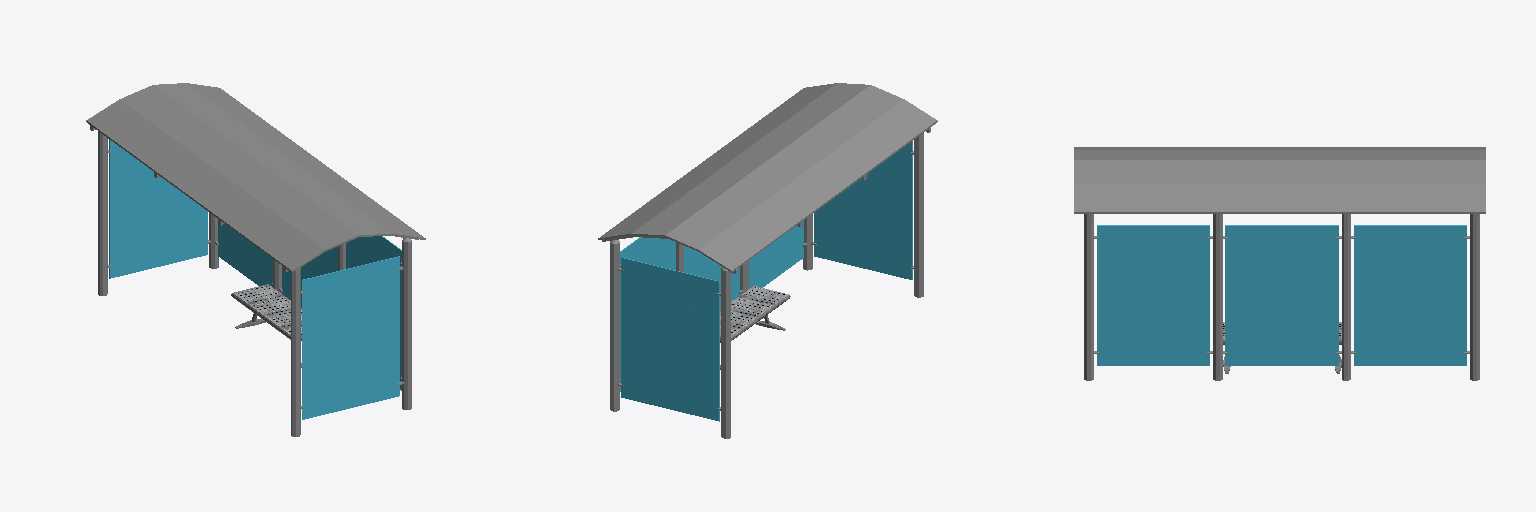
3 renders of one model, left to right at view 1: azimuth 30°, elevation 25°; view 2: azimuth 150°, elevation 25°; view 3: azimuth 270°, elevation 25°, orthographic.
Visible parts, largest first — view 1: bus_stop; view 2: bus_stop; view 3: bus_stop.
Boxes of the visible parts, <box> form: bus_stop: <box>86,83,425,436</box>; bus_stop: <box>598,83,937,438</box>; bus_stop: <box>1074,147,1485,380</box>.
Bounding box in the file's own units: 59.08 × 80.96 × 157.
Materials: 5 (4 with a texture image).